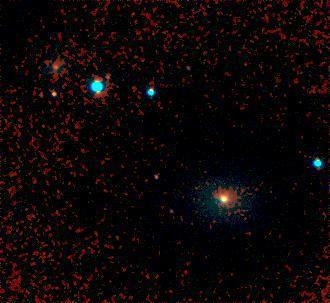star: (97, 62, 127, 92)
